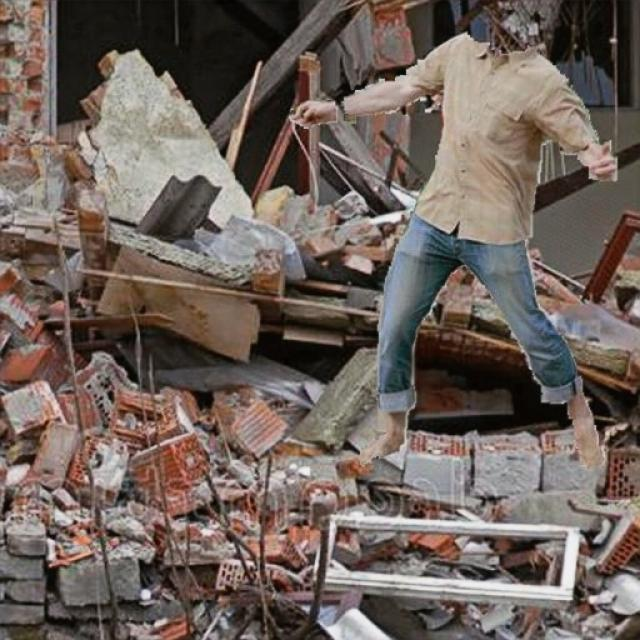Person in Rubble: (288, 31, 616, 468)
